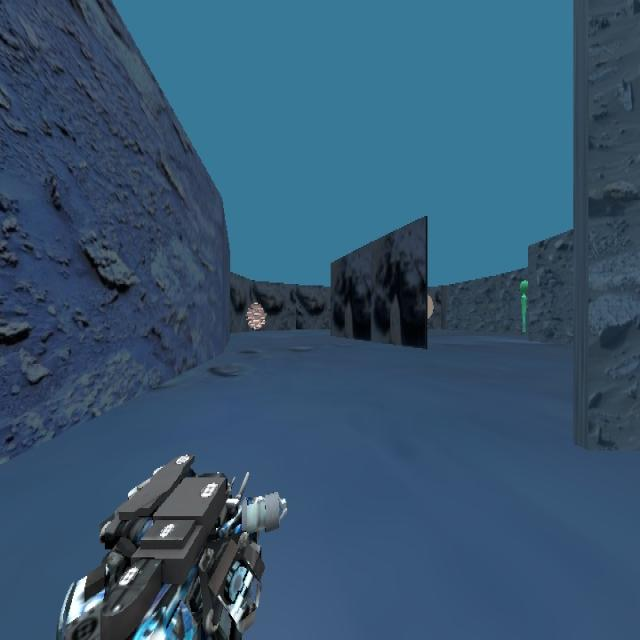Alien: (518, 278, 529, 334)
Circle: (418, 281, 440, 327)
Mushroom: (244, 300, 266, 331)
